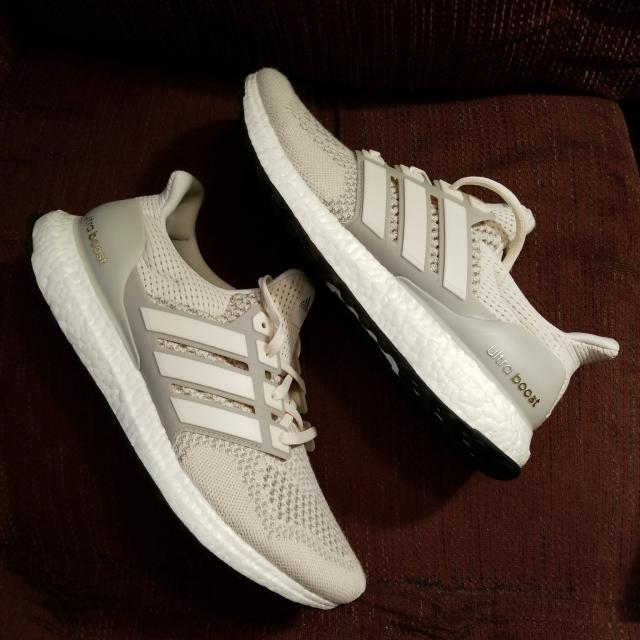shoes: (240, 65, 624, 485), (28, 169, 371, 613)
